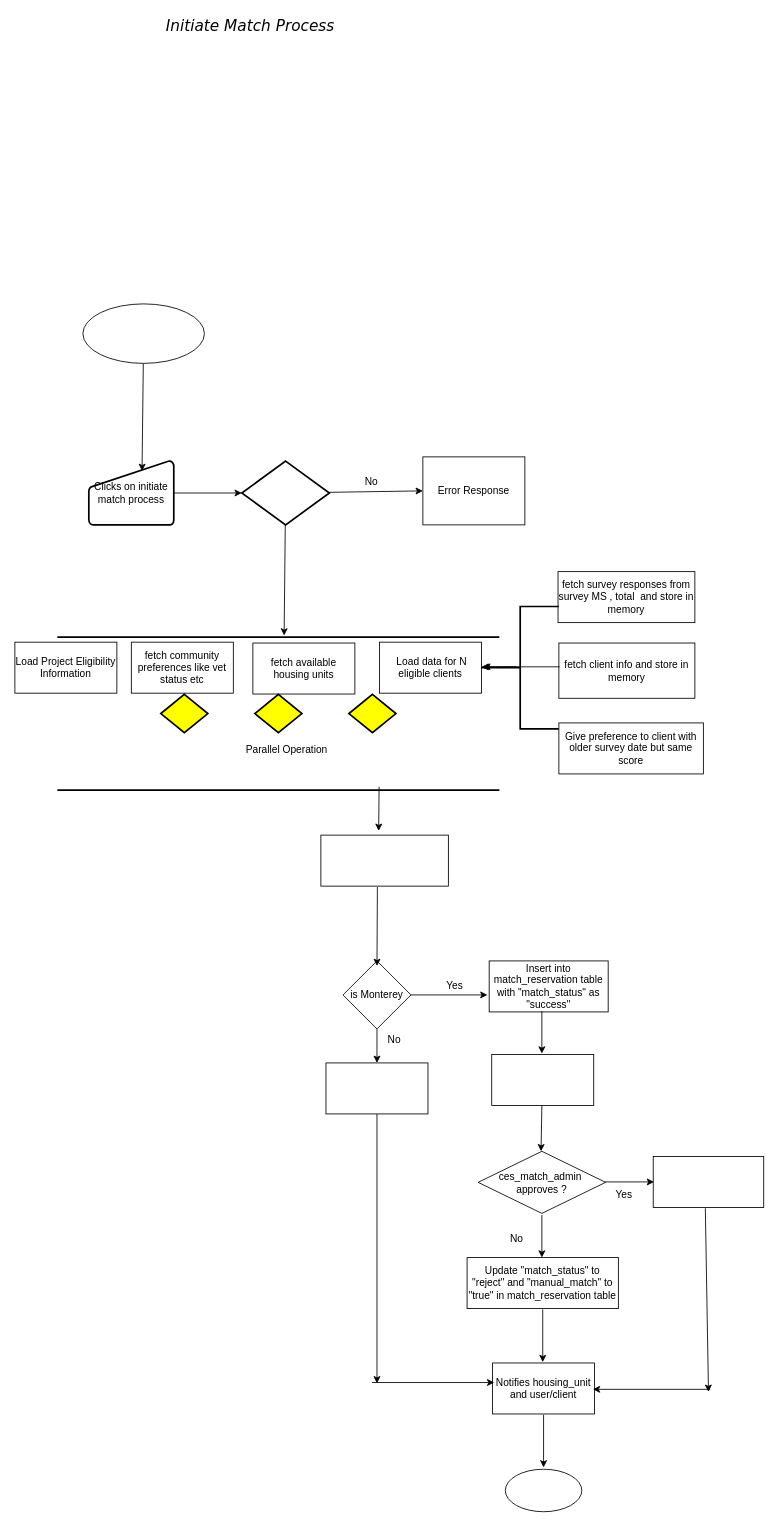
Some shapes in this 779 by 1527 pixel diagram are drawn without their labels. The shapes that lost their labels are listed below. From the top down, each one's centre as x and y in pixels, then its label:
(x=143, y=333): Admin user l ogs in Home App
(x=285, y=492): Validated user
(x=384, y=860): apply the auto matching algo and compute match of housing unit for a person
(x=376, y=1088): Insert into match_reservation table
(x=542, y=1079): send notification to ces_match_admin to review and approve
(x=708, y=1181): Update "match_status" to "approve" in match_reservation table
(x=543, y=1490): End
